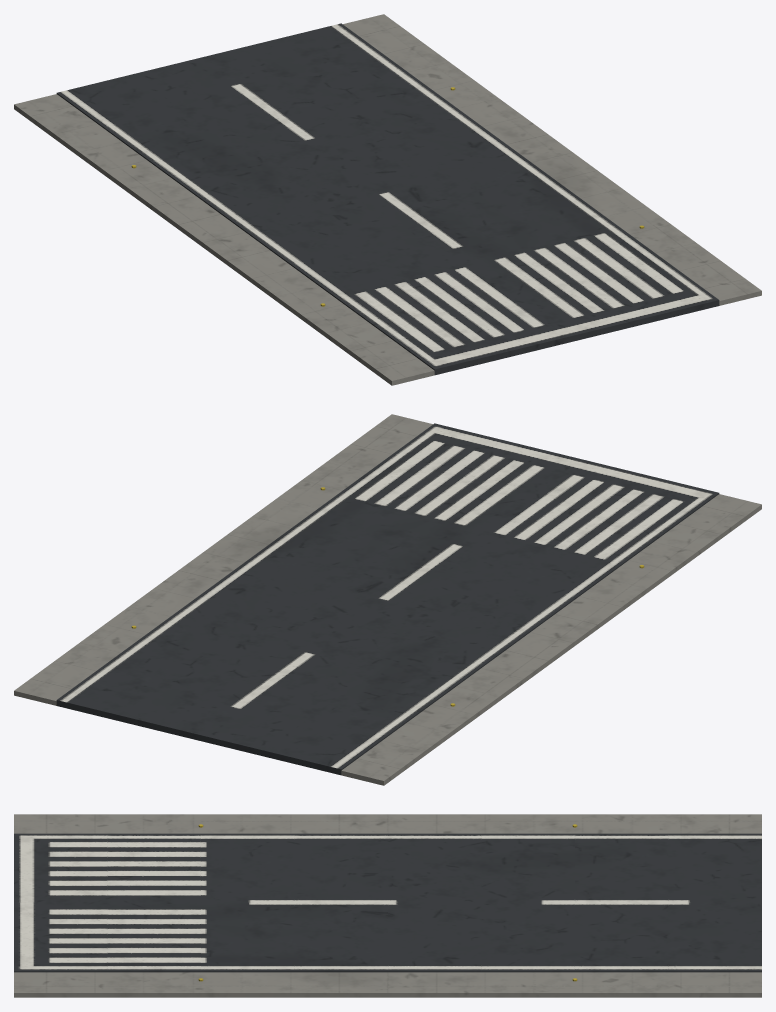
The model's file is runway-threshold.fbx.
3 renders of one model, top to bottom at view 1: azimuth 30°, elevation 25°; view 2: azimuth 150°, elevation 25°; view 3: azimuth 270°, elevation 25°, orthographic.
Parts seen in each view (by area): view 1: runway-threshold; view 2: runway-threshold; view 3: runway-threshold.
Boxes of the visible parts, box(x1,y1,x2,y2) form: runway-threshold: box(14, 14, 761, 385); runway-threshold: box(14, 414, 761, 785); runway-threshold: box(14, 814, 761, 997).
Size of the model in its own units: 130 by 2.1 by 230.
Materials: 1 (1 with a texture image).
